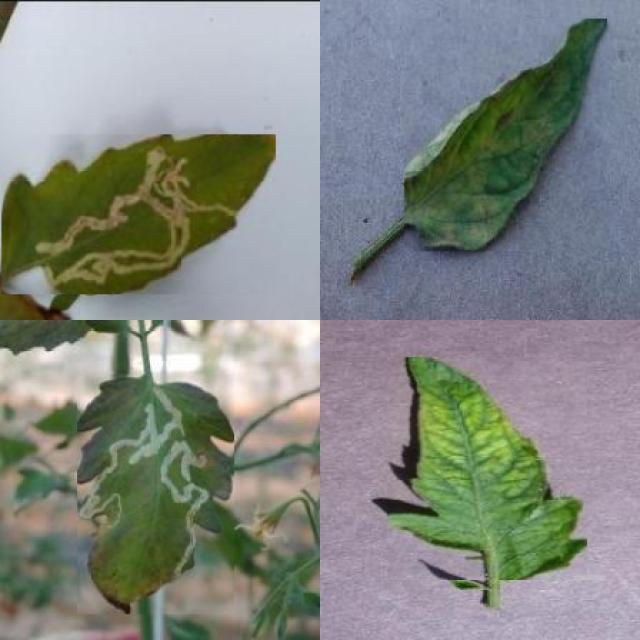Leaf Miner: (2, 135, 277, 295), (78, 374, 235, 615)
Leaf Mold: (405, 18, 608, 252)
Mosaic Virus: (387, 357, 587, 580)
